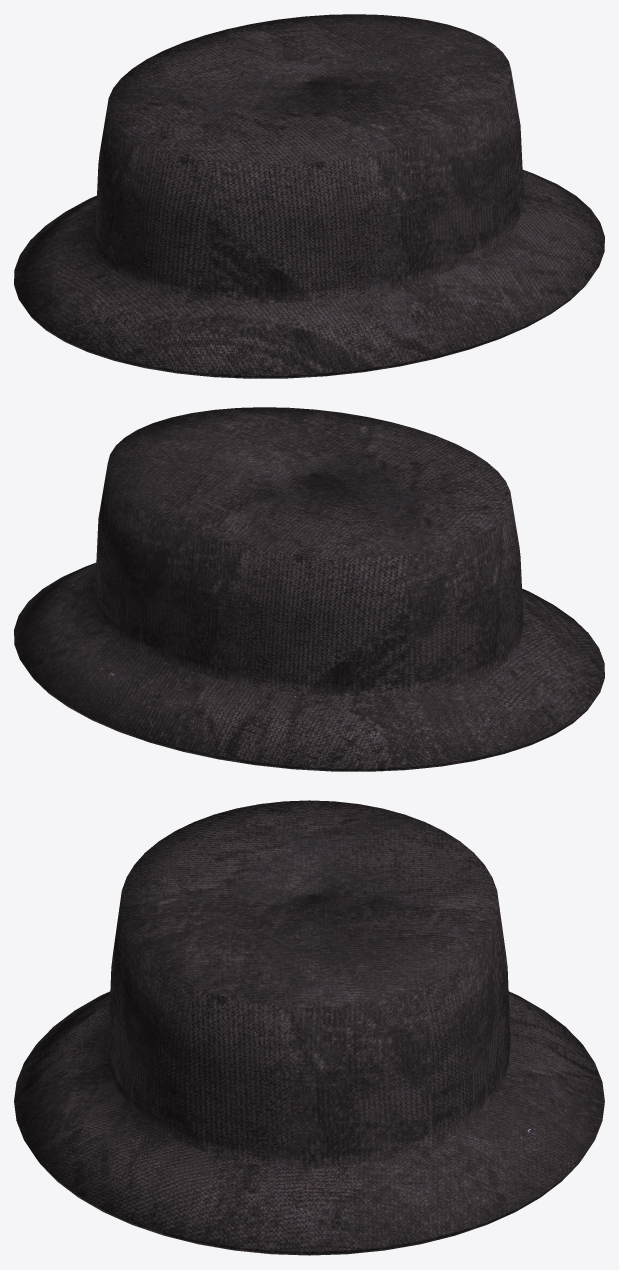
File: buckethat1.fbx
3 renders of one model, top to bottom at view 1: azimuth 30°, elevation 25°; view 2: azimuth 150°, elevation 25°; view 3: azimuth 270°, elevation 25°, orthographic. The views are drawn at different scales.
Visible parts, largest first — view 1: buckethat1; view 2: buckethat1; view 3: buckethat1.
Boxes of the visible parts, x1,y1,x2,y2 form: buckethat1: (14,14,604,378); buckethat1: (14,407,604,771); buckethat1: (14,800,604,1255).
Bounding box in the file's own units: 1.08 × 0.359 × 0.9039.
1 material, 1 textured.
